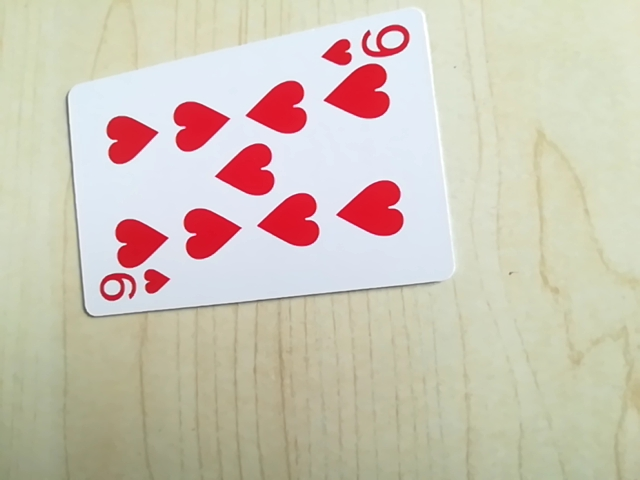hx 9: (319, 19, 414, 68), (96, 265, 173, 311)
